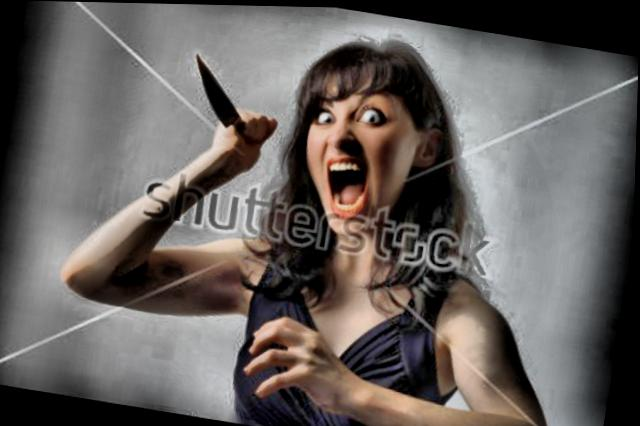knife: (174, 45, 289, 151)
